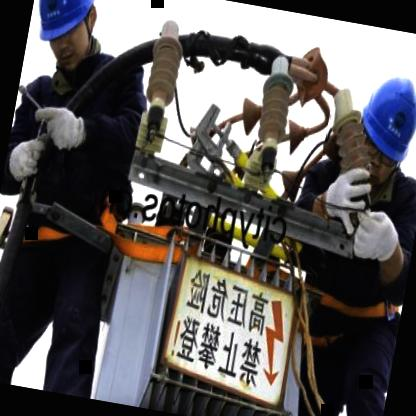helmet: (341, 58, 416, 197), (21, 0, 106, 82)
